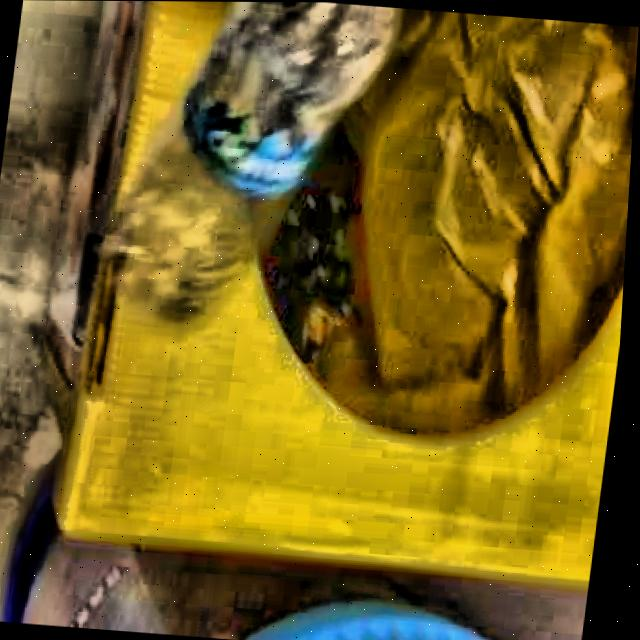plastic: (104, 1, 397, 321)
